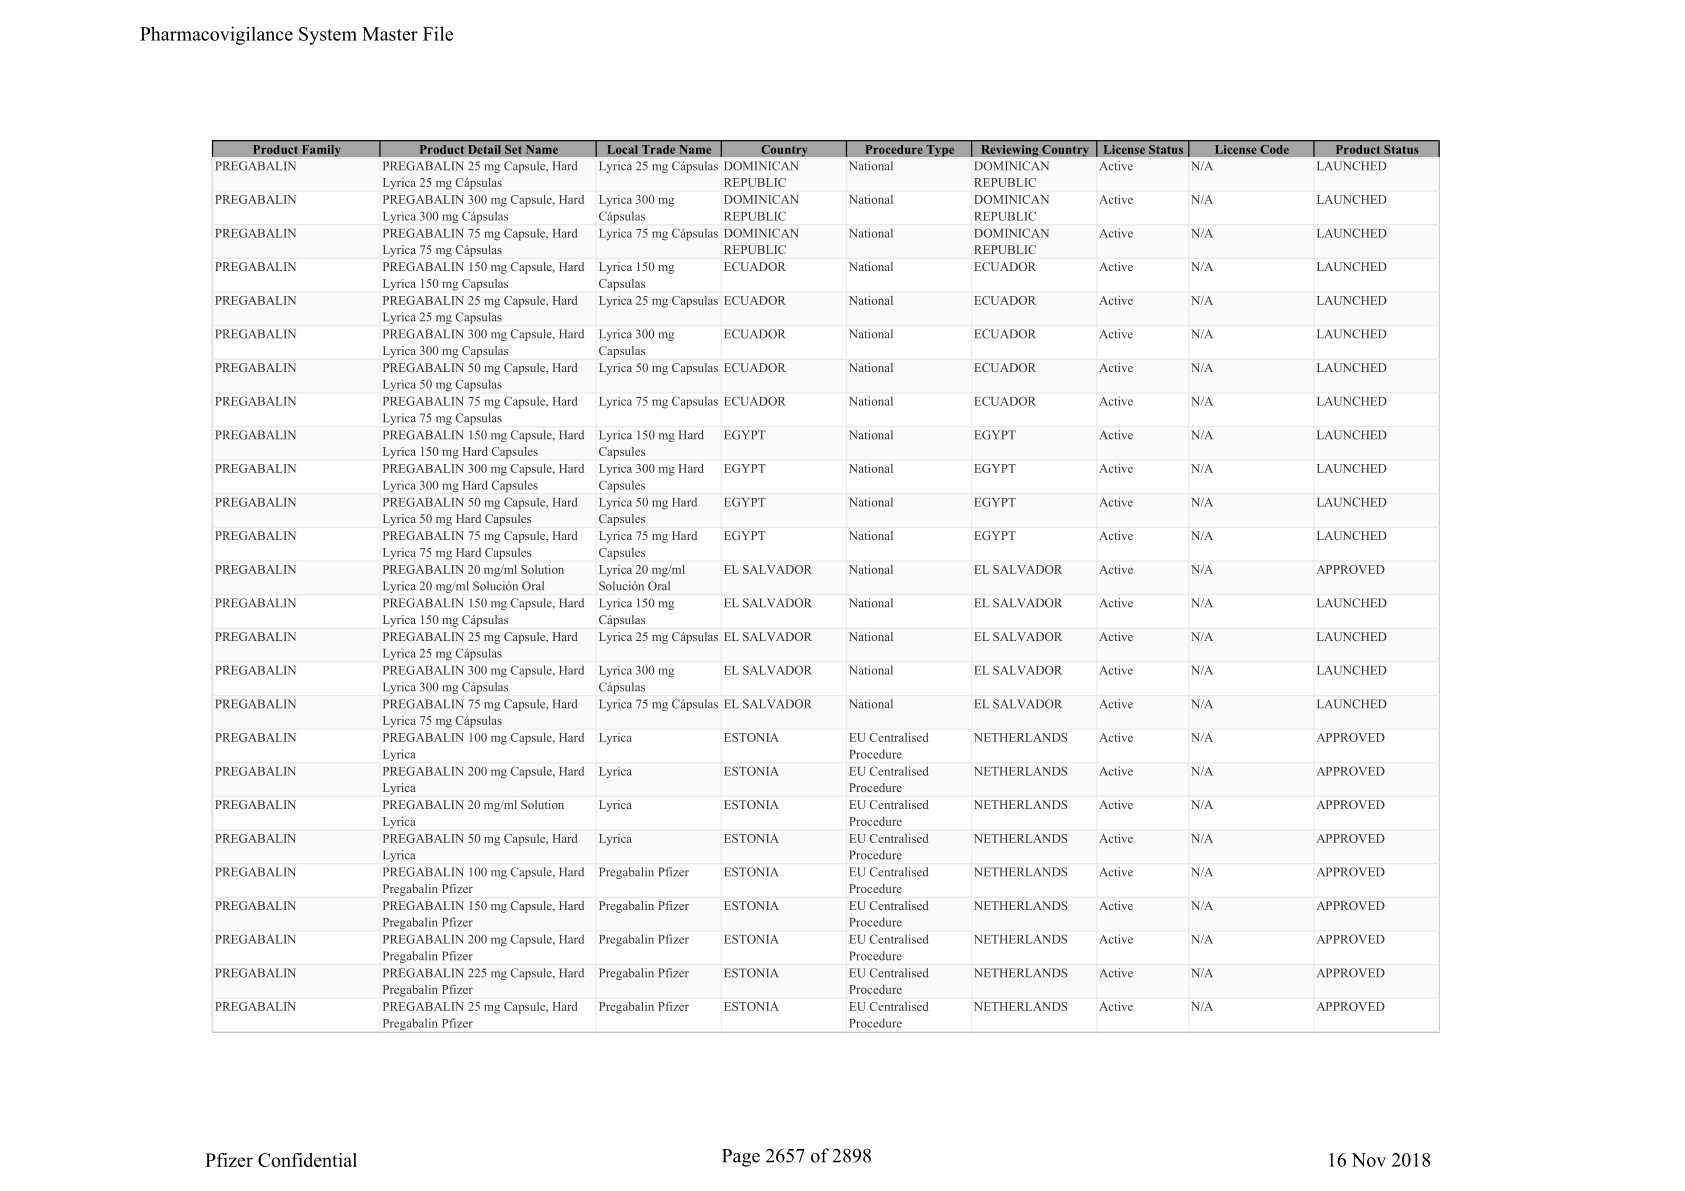full_lined: (210, 139, 1440, 1034)
